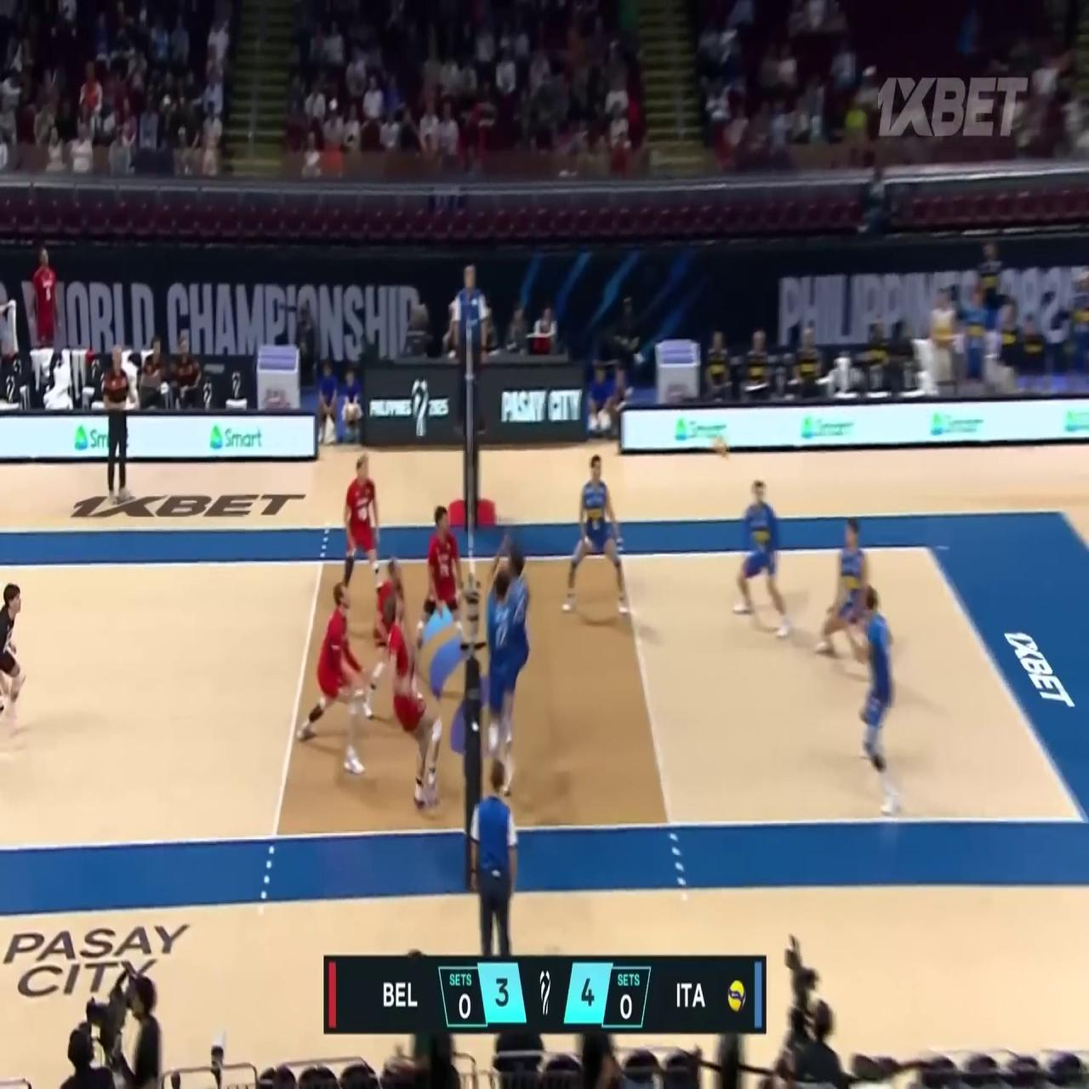ball: (714, 438, 728, 460)
